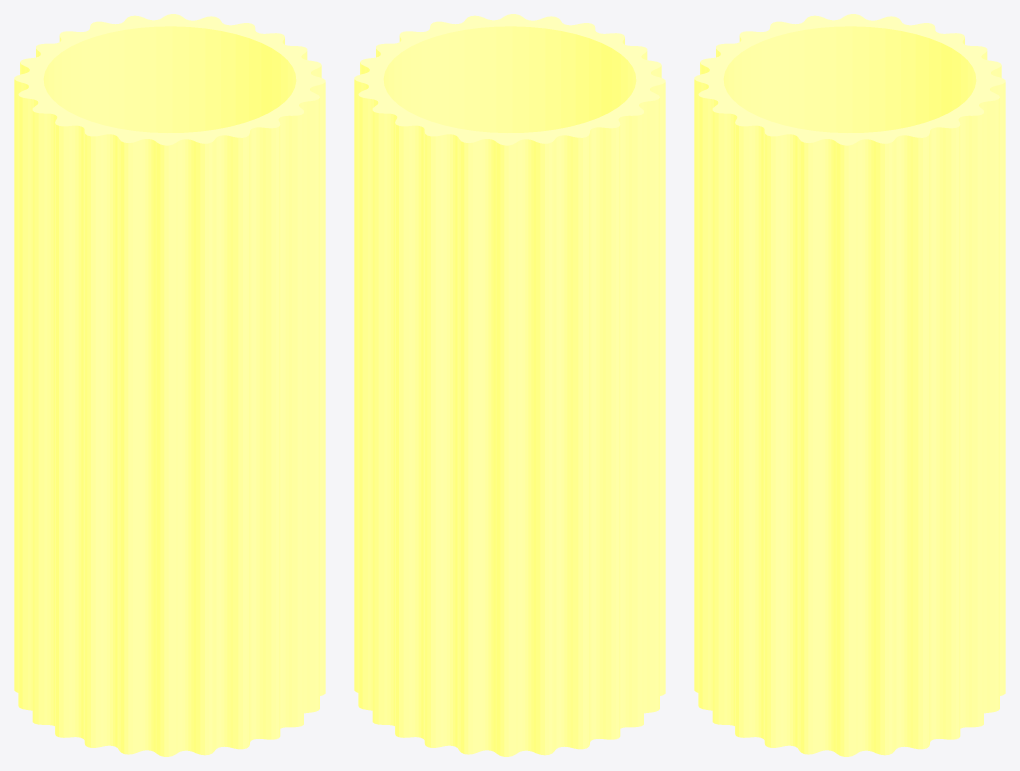
The model's file is Rigatoni.003.gltf.
3 renders of one model, left to right at view 1: azimuth 30°, elevation 25°; view 2: azimuth 150°, elevation 25°; view 3: azimuth 270°, elevation 25°, orthographic.
Parts seen in each view (by area): view 1: Rigatoni.003; view 2: Rigatoni.003; view 3: Rigatoni.003.
Part boxes in pixels (left/top/right/bottom): Rigatoni.003: left=14, top=14, right=325, bottom=756; Rigatoni.003: left=354, top=14, right=665, bottom=756; Rigatoni.003: left=694, top=14, right=1005, bottom=756.
Bounding box in the file's own units: 1.37 × 2.96 × 1.37.
